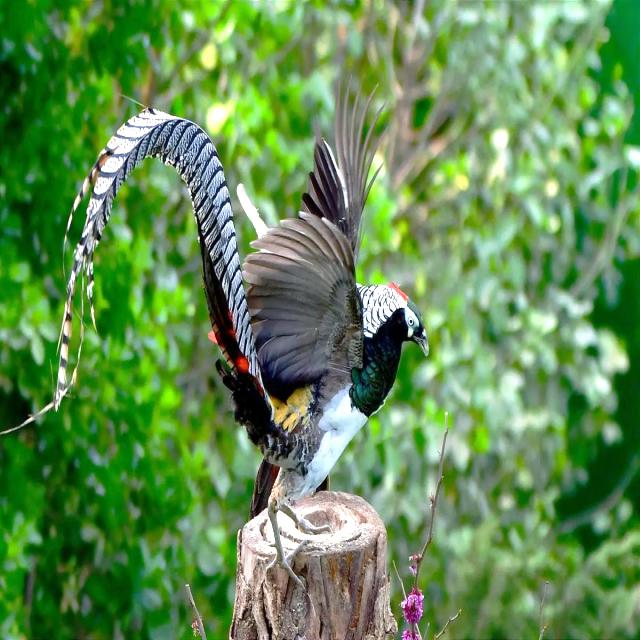Chrysolophus amherstiae: (51, 108, 269, 410)
